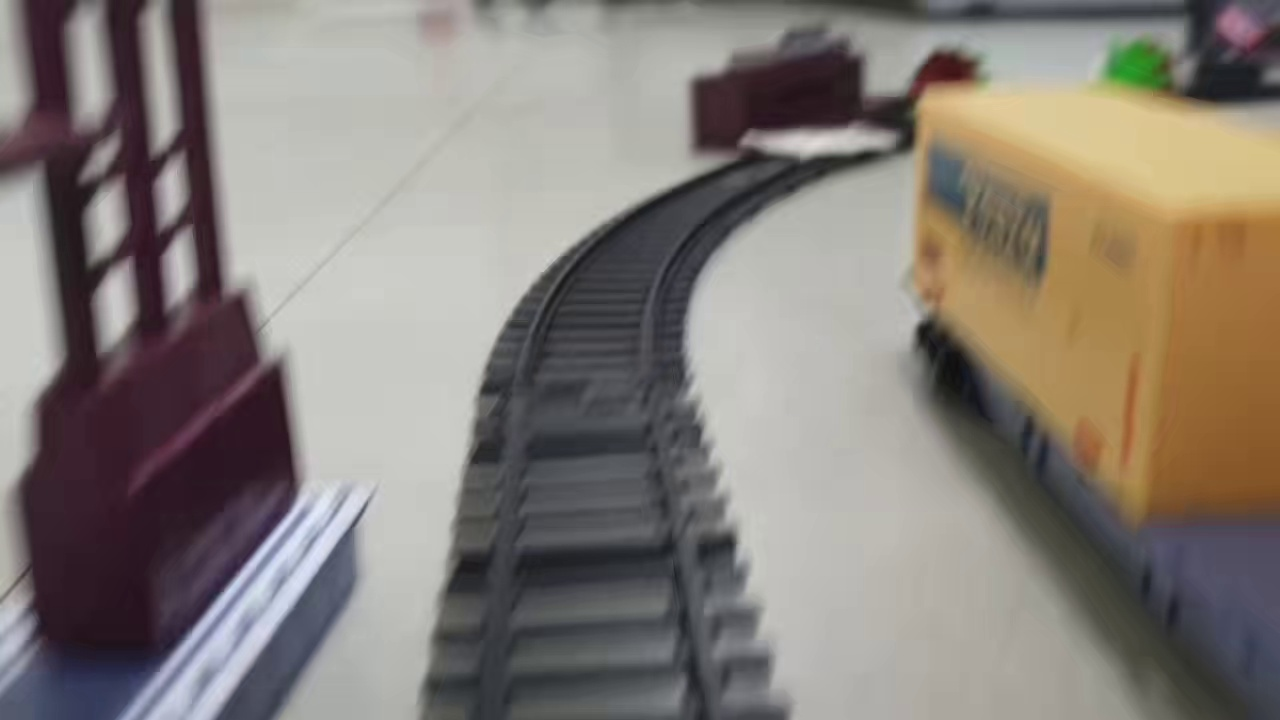tree: (1101, 38, 1179, 93)
web: (737, 120, 906, 161)
